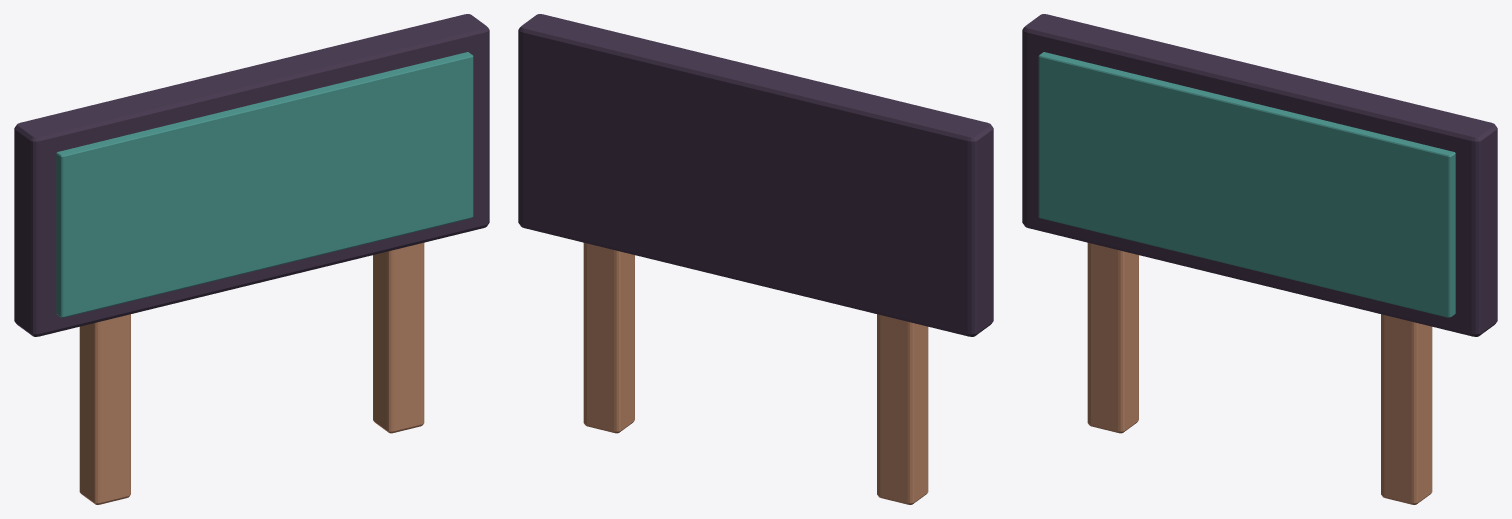
The model's file is school_board.glb.
3 renders of one model, left to right at view 1: azimuth 30°, elevation 25°; view 2: azimuth 150°, elevation 25°; view 3: azimuth 330°, elevation 25°, orthographic.
Parts seen in each view (by area): view 1: panel, frame, model; view 2: frame, model; view 3: panel, frame, model.
Part boxes in pixels (box(x1,y1,x2,y2)): panel: box(56, 52, 473, 317); frame: box(14, 14, 489, 336); model: box(79, 242, 424, 504); frame: box(518, 14, 993, 336); model: box(583, 242, 928, 504); panel: box(1038, 52, 1455, 317); frame: box(1022, 14, 1497, 336); model: box(1087, 242, 1432, 504).
Size of the model in its own units: 1.5 by 1.2 by 0.15.
